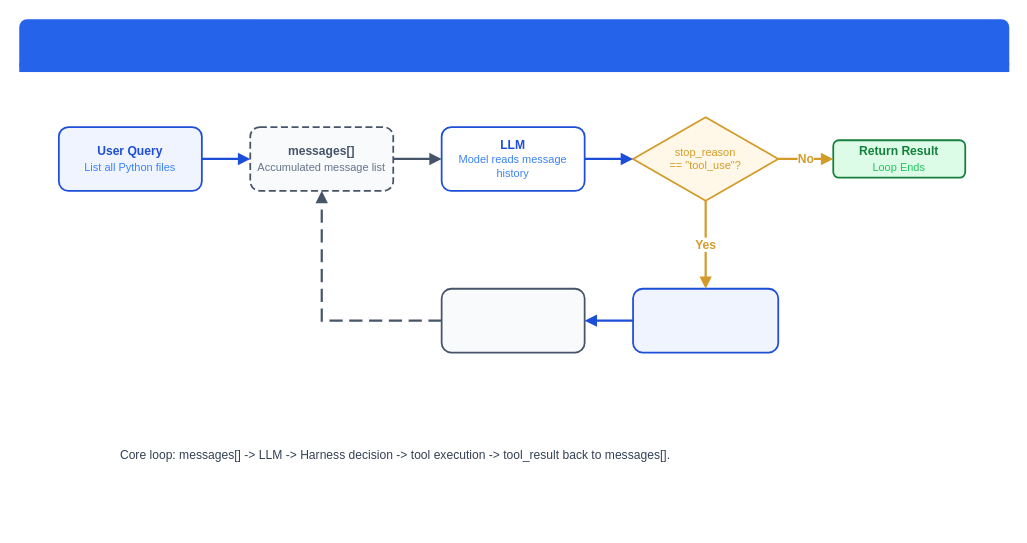
Some shapes in this 1027 by 543 pixel diagram are drawn without their labels. Each missing label, with the centre of its shape:
"Execute Tool Call run_bash(command)" belongs at (705,320).
"s01 Agent Loop - While Loop Drives the Entire Agent" belongs at (514,45).
"Tool Result Append to messages" belongs at (512,320).
